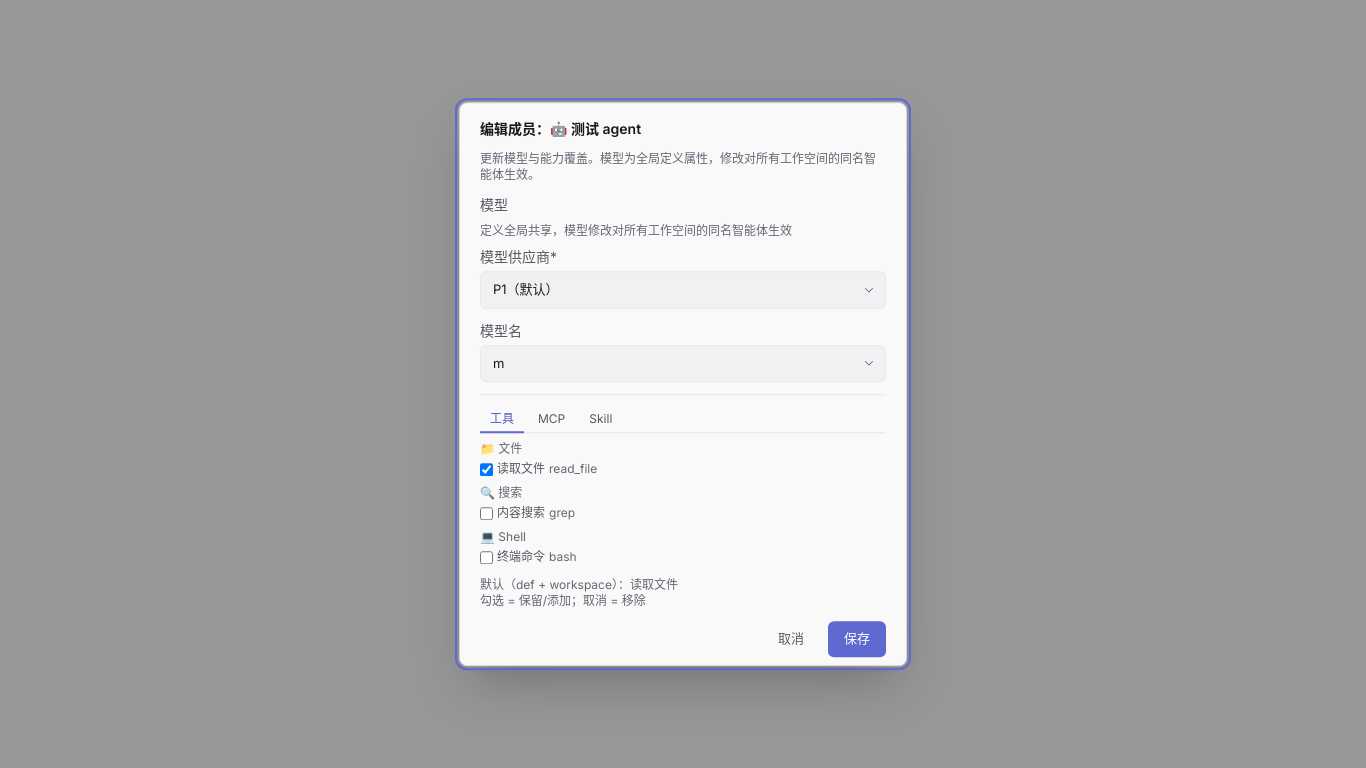
MemberEditDialog — 重启提示 › agent 运行中 + delta 变化 → 保存后显示重启提示
Click the checkbox named "终端命令（bash）" at (486, 557), box [480,551,493,564]
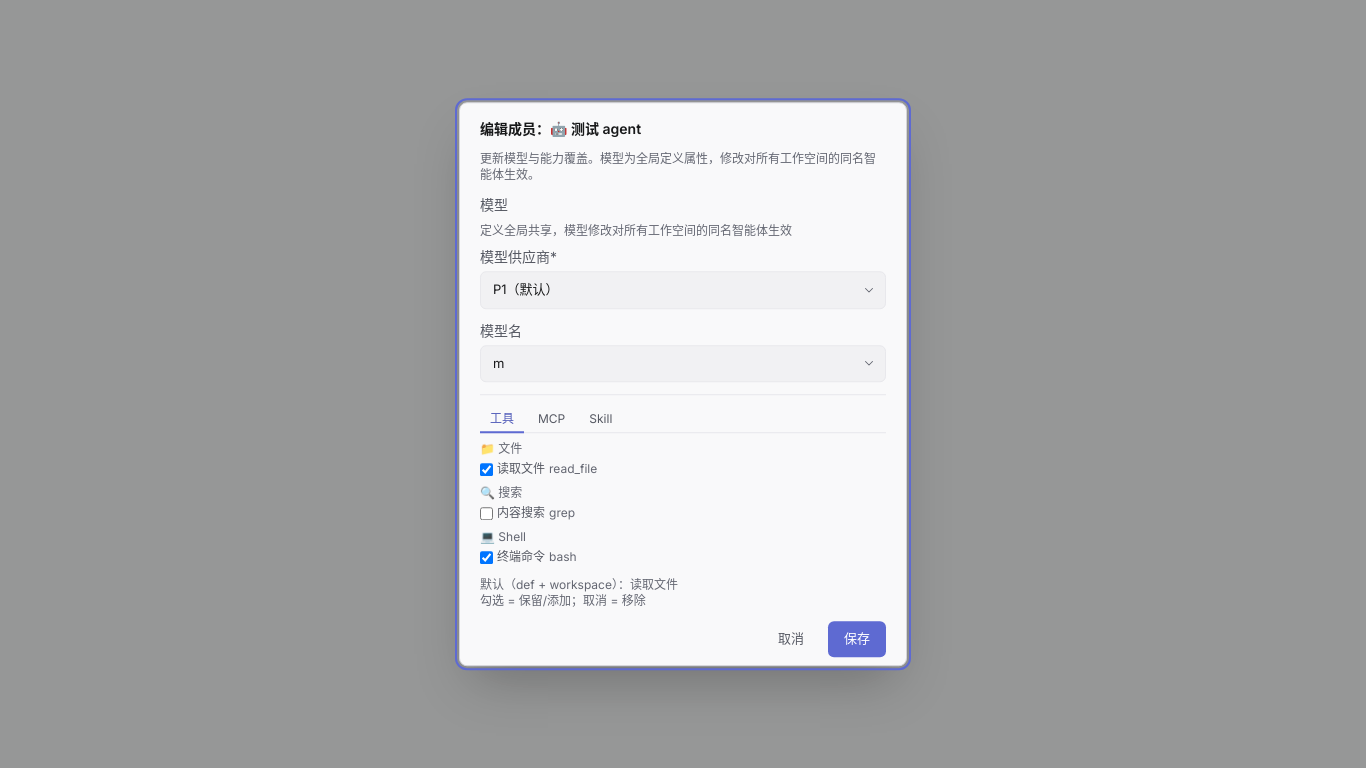
Click the button "保存" at (857, 639), box [828,621,886,657]
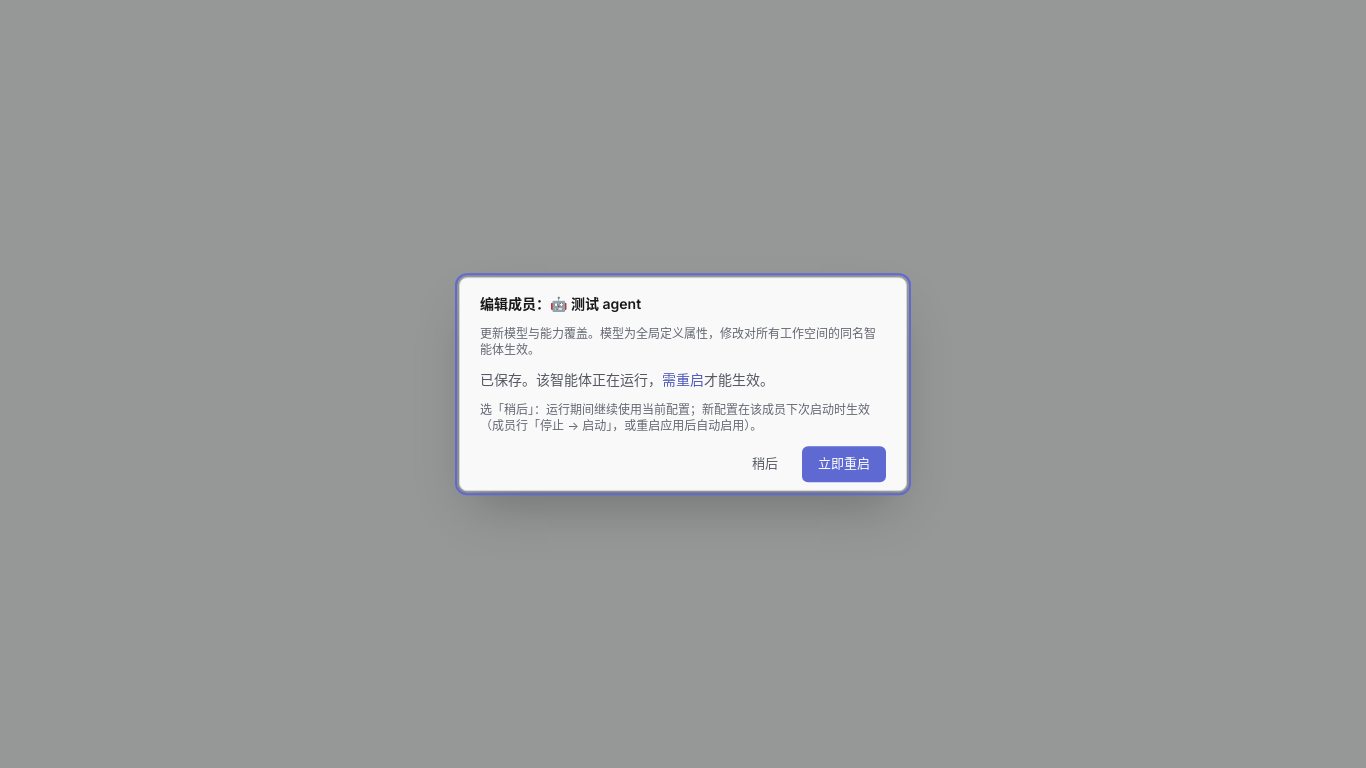
Result: the text "需重启" is shown at [662,371,704,388]
Result: the button "立即重启" is shown at [802,446,886,482]
Result: the button "稍后" is shown at [736,446,794,482]
